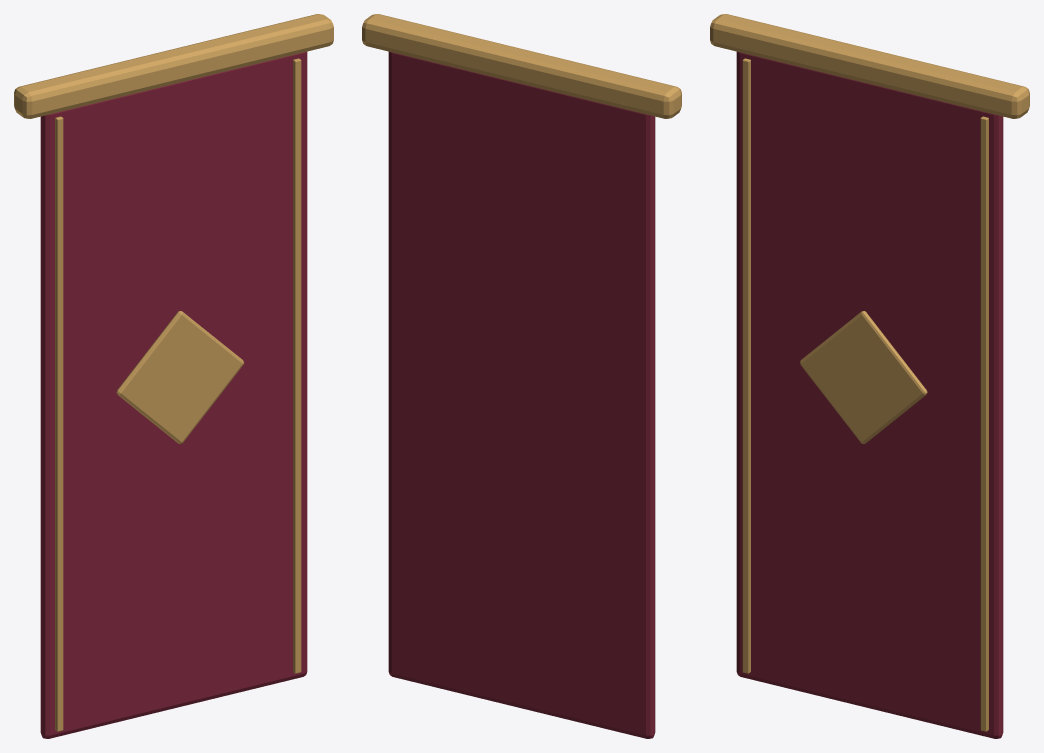
File: SM_Banner.fbx
The picture shows the model from 3 angles, left to right: view 1: azimuth 30°, elevation 25°; view 2: azimuth 150°, elevation 25°; view 3: azimuth 330°, elevation 25°; orthographic projection.
Parts seen in each view (by area): view 1: SM_Banner; view 2: SM_Banner; view 3: SM_Banner.
Boxes of the visible parts, bbox=[...] form: SM_Banner: bbox=[14, 14, 333, 738]; SM_Banner: bbox=[362, 14, 681, 738]; SM_Banner: bbox=[710, 14, 1029, 738].
Size of the model in its own units: 170 by 14.5 by 342.
